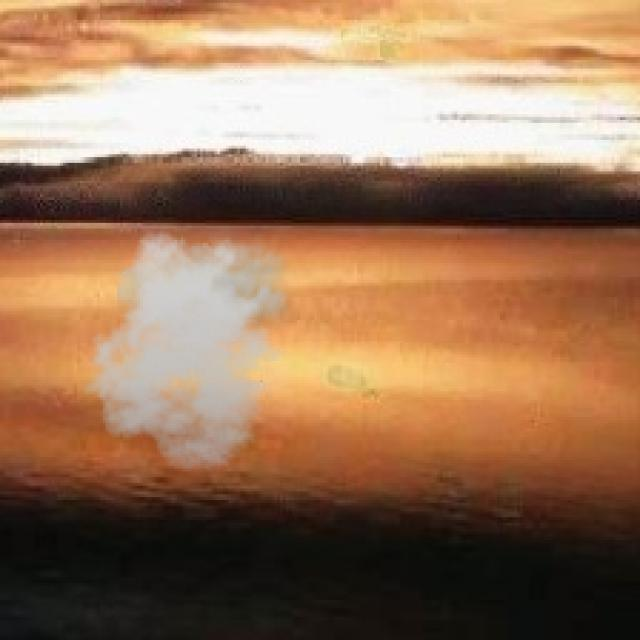smoke: (83, 223, 300, 471)
